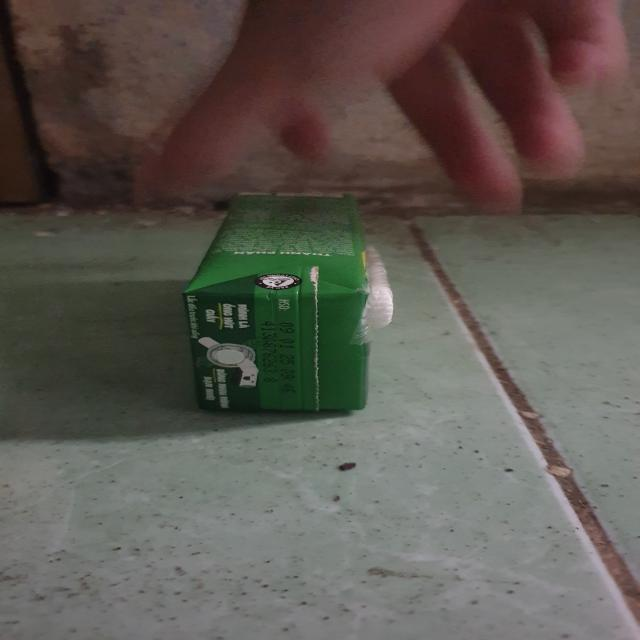Milo: (179, 192, 376, 414)
